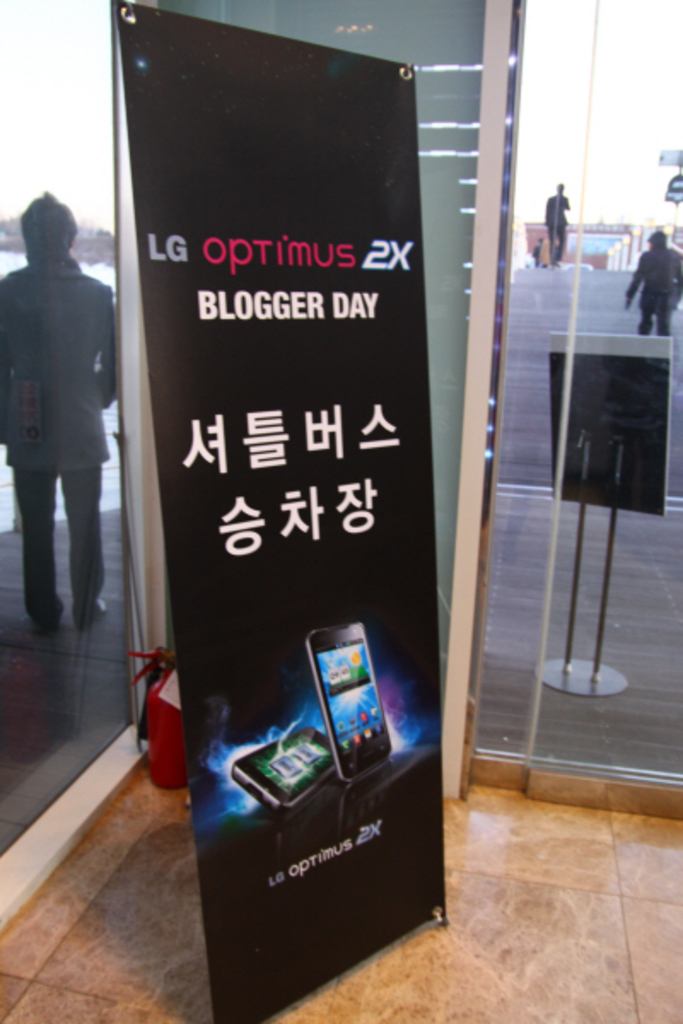Mobile-phone: (285, 620, 403, 792), (232, 730, 336, 811)
